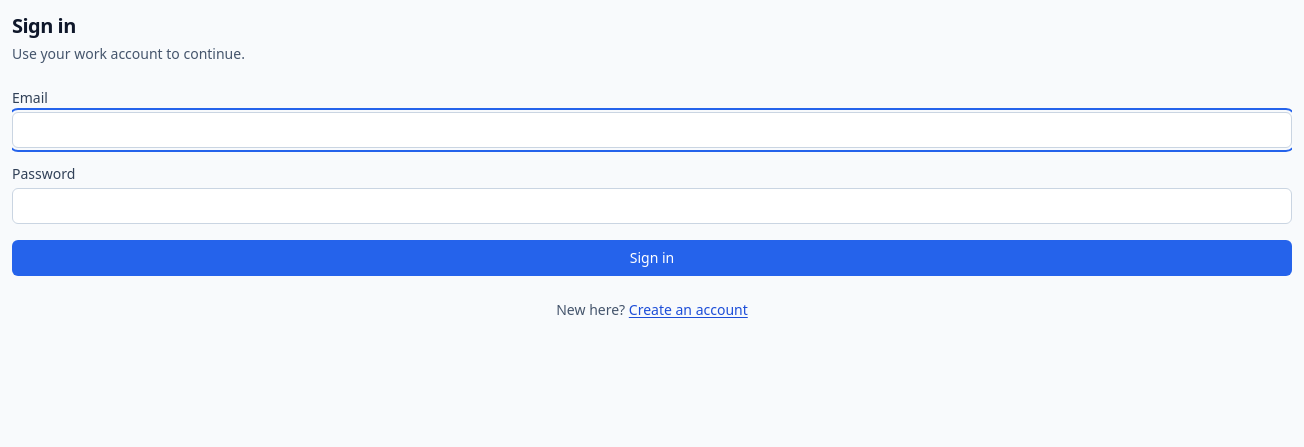
Test case: LoginForm › mentions Retry-After when rate limited
Type "ada@acme.test" into the field with test id "login-email".
click(652, 130); type("ada@acme.test")  # box [12,112,1292,148]
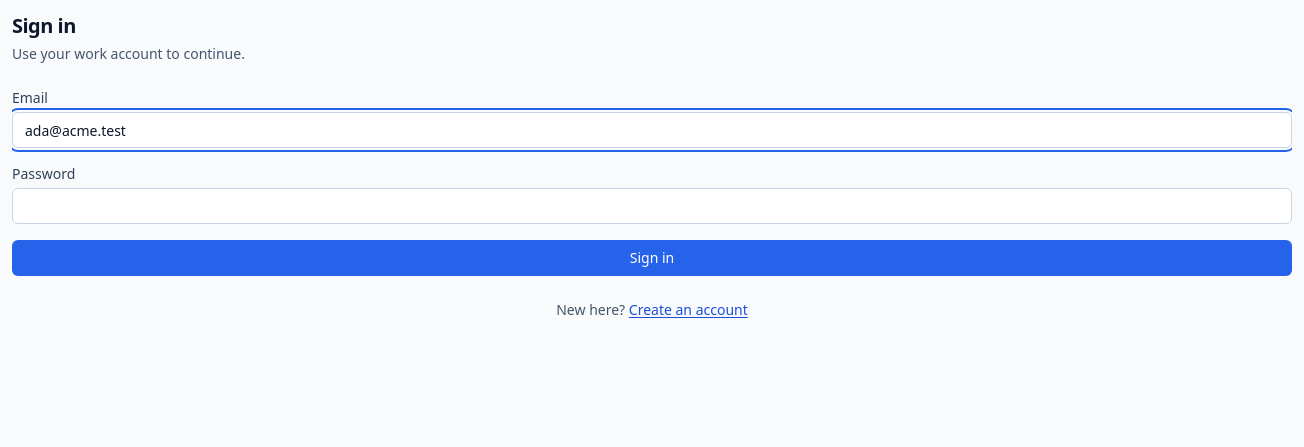
Type "pw" into the password field with test id "login-password".
click(652, 206); type("pw")  # box [12,188,1292,224]
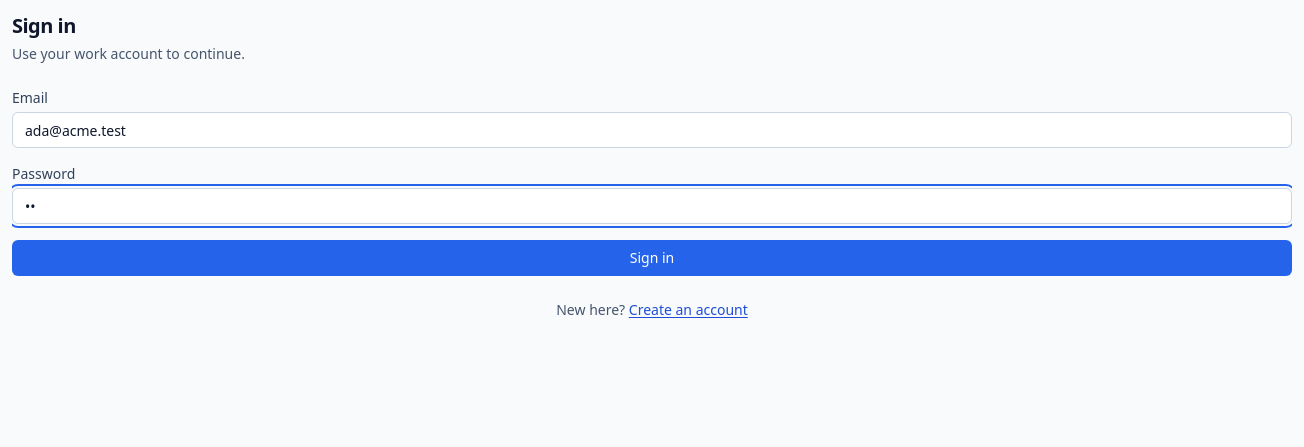
Click the button with test id "login-submit".
click(652, 258)  # box [12,240,1292,276]
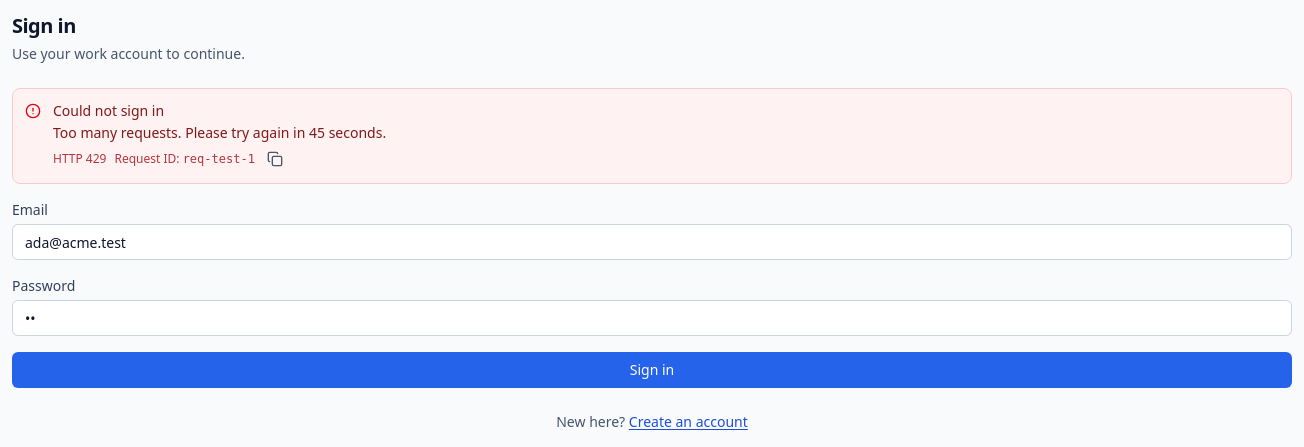
Check: the message with test id "login-error" shows "try again in 45 seconds", box [53,123,386,142]
